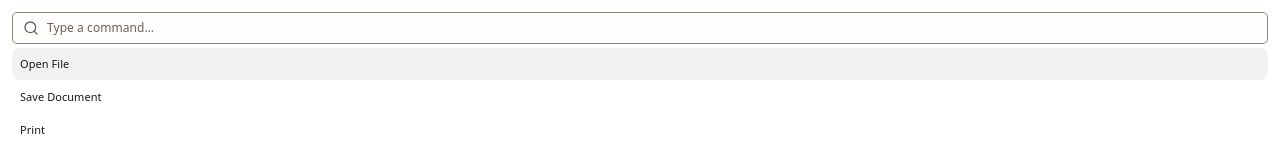
Test: Command › filtered-out items are hidden
The image size is (1280, 160).
Type "save" into the dropdown with placeholder "Type a command…".
click(652, 28); type("save")  # box 47,19 -> 1257,37
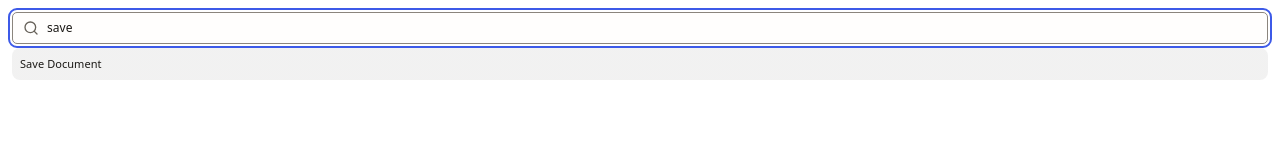
Expected: the option "Save Document" is shown, 12,48 -> 1268,80
Expected: the option "Open File" is gone
